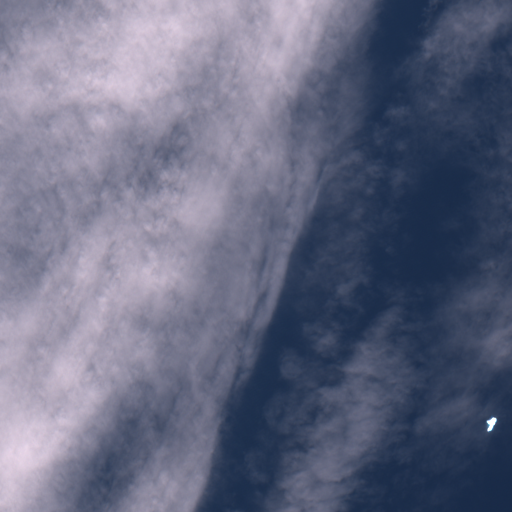Iceberg: (487, 417, 496, 431)
